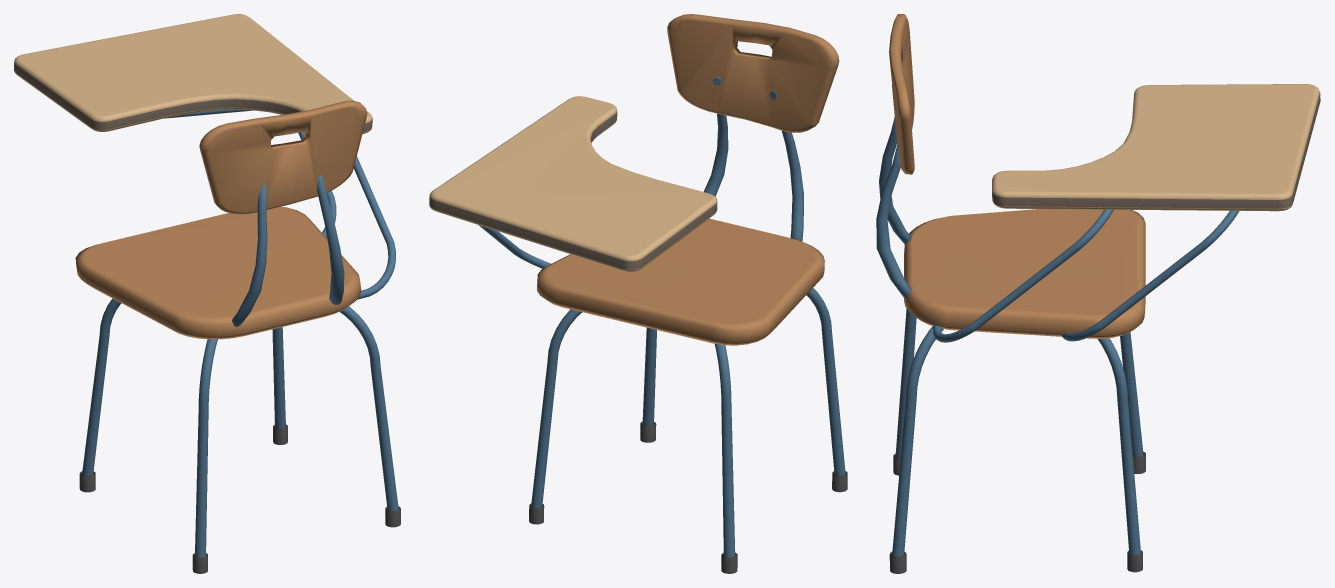
File: studentChaire.fbx
3 renders of one model, left to right at view 1: azimuth 30°, elevation 25°; view 2: azimuth 150°, elevation 25°; view 3: azimuth 270°, elevation 25°, orthographic. The views are drawn at different scales.
Visible parts, largest first — view 1: StudentChaire3; view 2: StudentChaire3; view 3: StudentChaire3.
Part boxes in pixels (x1=…): StudentChaire3: x1=14, y1=14, x2=400, y2=573; StudentChaire3: x1=429, y1=14, x2=847, y2=573; StudentChaire3: x1=876, y1=14, x2=1320, y2=573.
Size of the model in its own units: 173 by 287 by 246.
